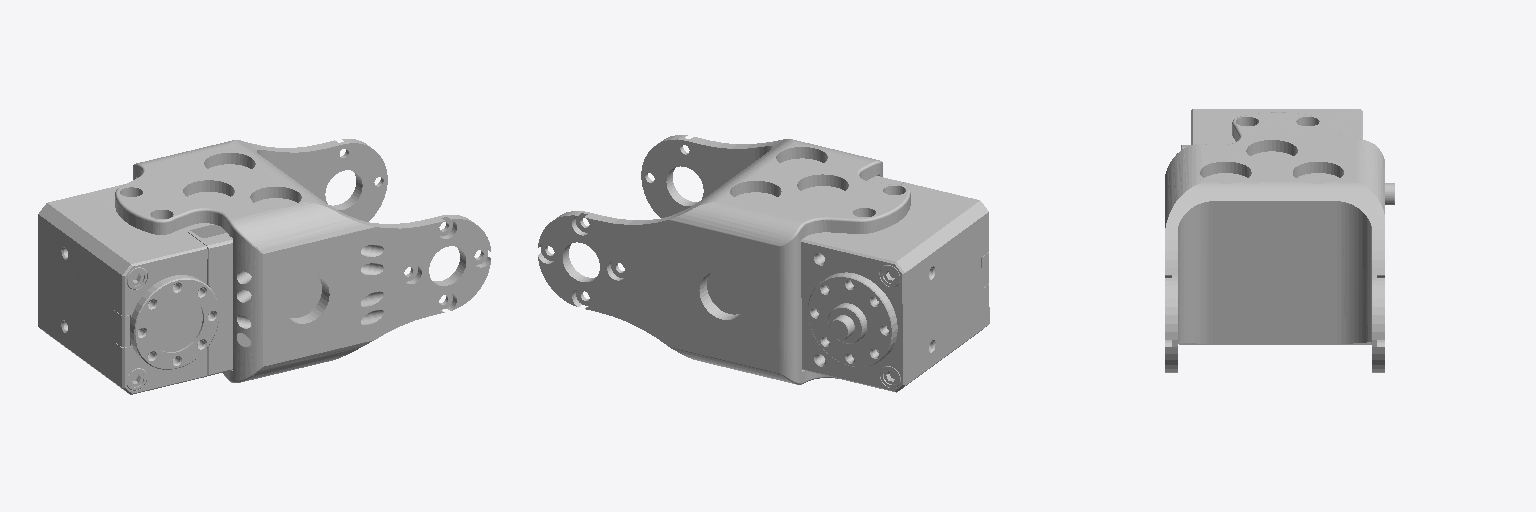
The picture shows the model from 3 angles: view 1: azimuth 30°, elevation 25°; view 2: azimuth 150°, elevation 25°; view 3: azimuth 270°, elevation 25°; orthographic projection.
Parts seen in each view (by area): view 1: link5; view 2: link5; view 3: link5.
Part boxes in pixels (x1,y1,x2,y2): link5: (38,139,490,394); link5: (538,135,989,392); link5: (1165,109,1394,372).
Size of the model in its own units: 0.0812 by 0.0351 by 0.0455.